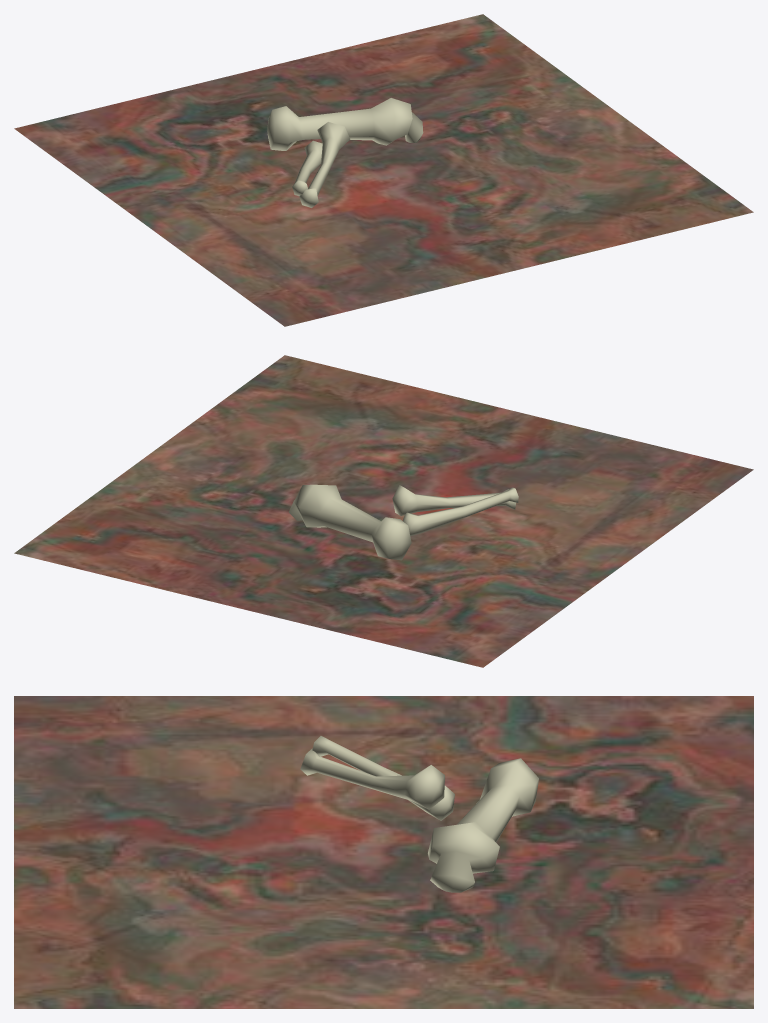
Rendered from cave_floor_decor_005.glb.
3 views of the same model, one above another, from view 1: azimuth 30°, elevation 25°; view 2: azimuth 150°, elevation 25°; view 3: azimuth 270°, elevation 25° (orthographic). The views are drawn at different scales.
Parts seen in each view (by area): view 1: cave_floor_decor.005-col; view 2: cave_floor_decor.005-col; view 3: cave_floor_decor.005-col.
Boxes of the visible parts, x1,y1,x2,y2 form: cave_floor_decor.005-col: (14, 14, 753, 326); cave_floor_decor.005-col: (14, 355, 753, 667); cave_floor_decor.005-col: (14, 696, 753, 1008).
Size of the model in its own units: 2 by 0.2075 by 2.
Materials: 2 (1 with a texture image).
